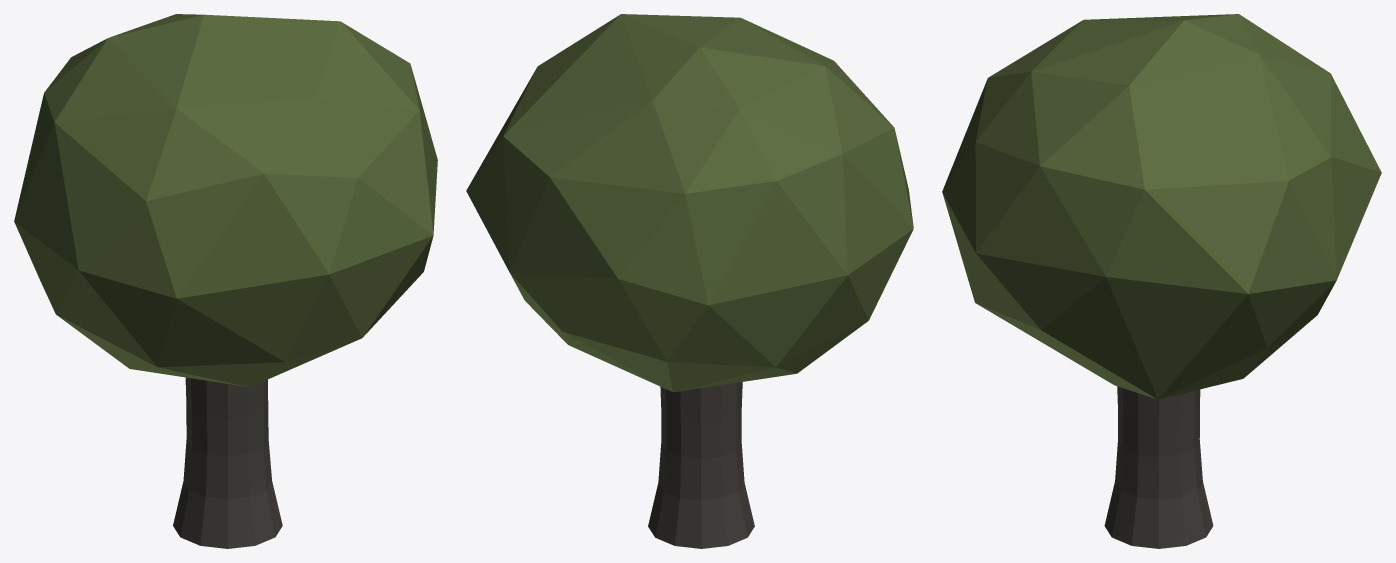
Rendered from round tree 1.fbx.
The picture shows the model from 3 angles, left to right: view 1: azimuth 30°, elevation 25°; view 2: azimuth 150°, elevation 25°; view 3: azimuth 270°, elevation 25°; orthographic projection. The views are drawn at different scales.
Visible parts, largest first — view 1: Round Tree.002; view 2: Round Tree.002; view 3: Round Tree.002.
Boxes of the visible parts, box(x1,y1,x2,y2) form: Round Tree.002: box(14, 14, 437, 548); Round Tree.002: box(466, 14, 913, 548); Round Tree.002: box(942, 14, 1381, 548).
Size of the model in its own units: 427 by 542 by 432.
